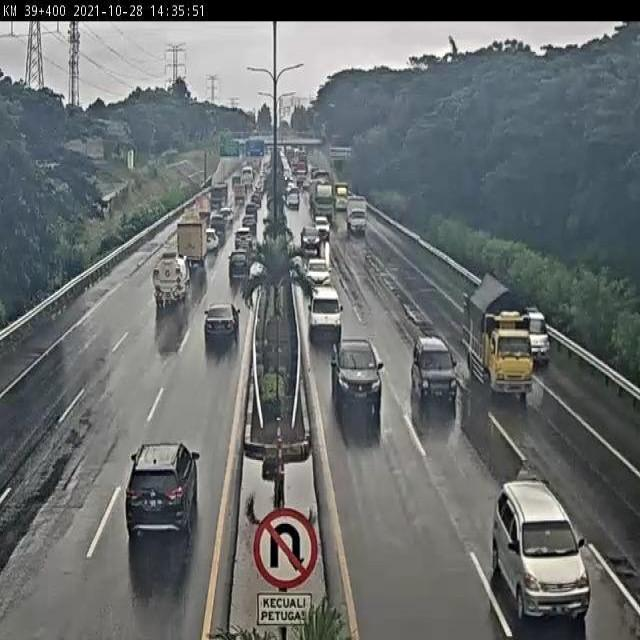big truck: (306, 176, 349, 225)
car: (485, 467, 595, 629), (115, 432, 212, 544), (319, 333, 388, 412), (405, 329, 463, 412), (302, 285, 352, 347), (522, 296, 562, 361), (203, 296, 246, 352), (218, 249, 264, 287), (296, 253, 338, 291), (231, 227, 266, 250), (313, 209, 333, 239), (299, 222, 324, 246)
small truck: (463, 280, 536, 405), (149, 253, 193, 308), (172, 215, 208, 268), (345, 193, 371, 246)
